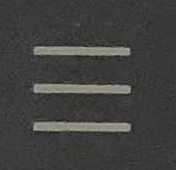menu: (13, 21, 161, 159)
